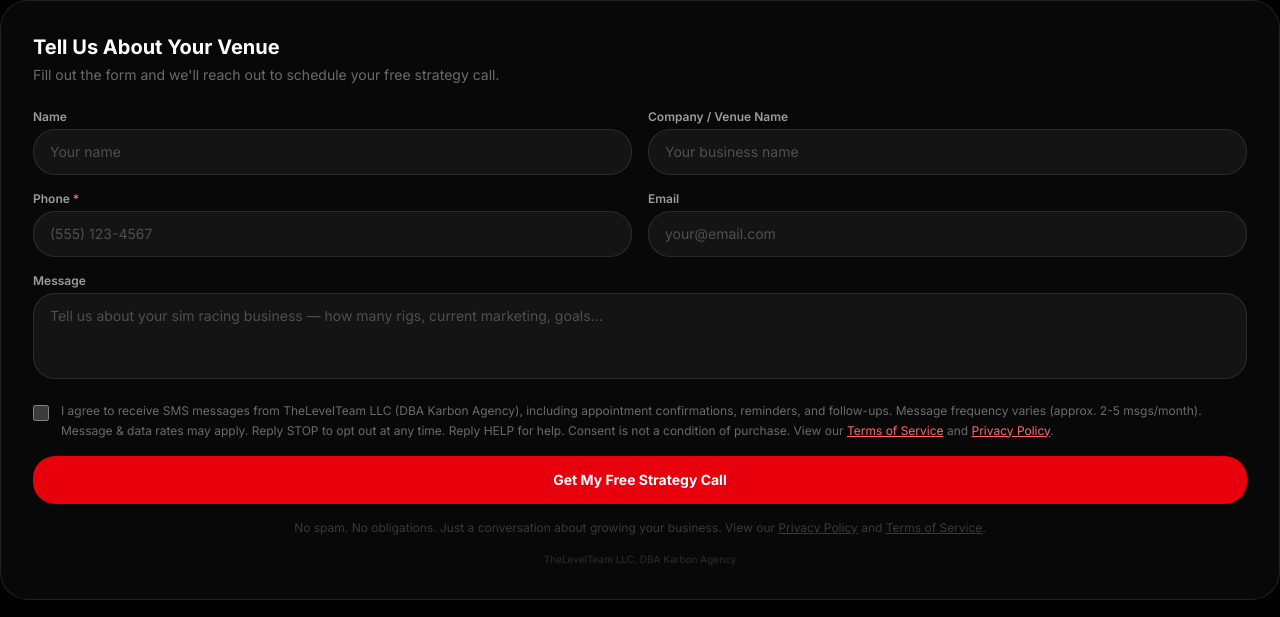
Test: ContactForm › loading state › shows Sending text and disables button while submitting
Type "John" into the field with id "name" at (332, 152), box [33,129,632,175]
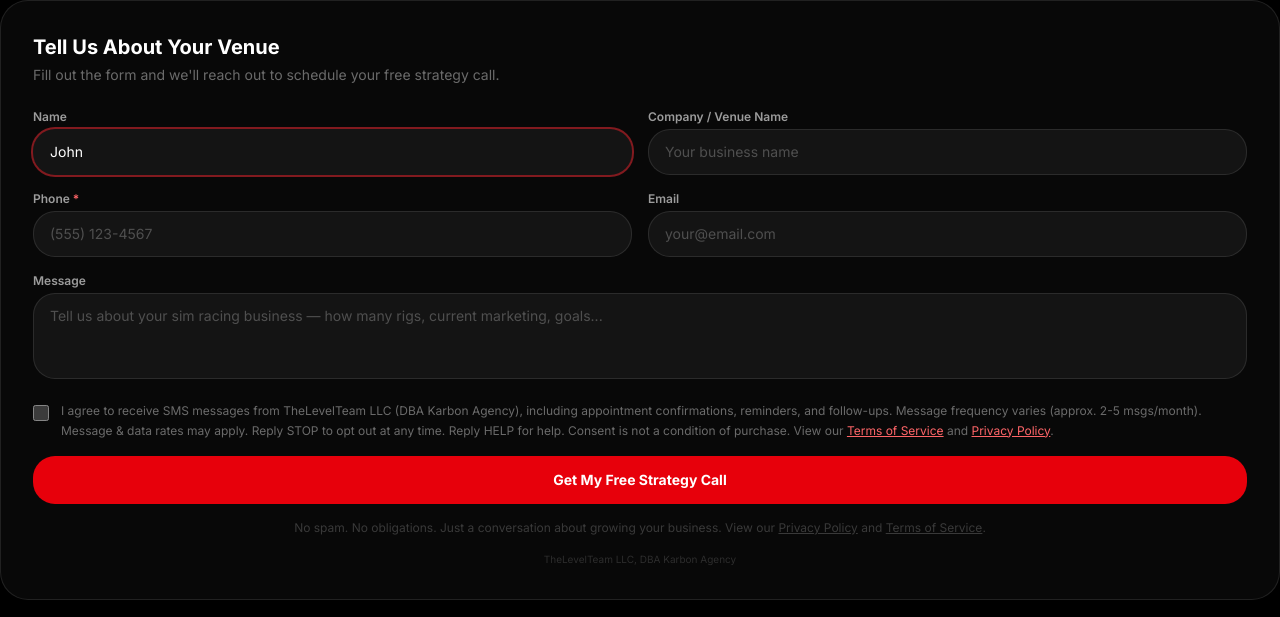
Type "123" into the field labelled "Phone *" at (332, 234), box [33,211,632,257]
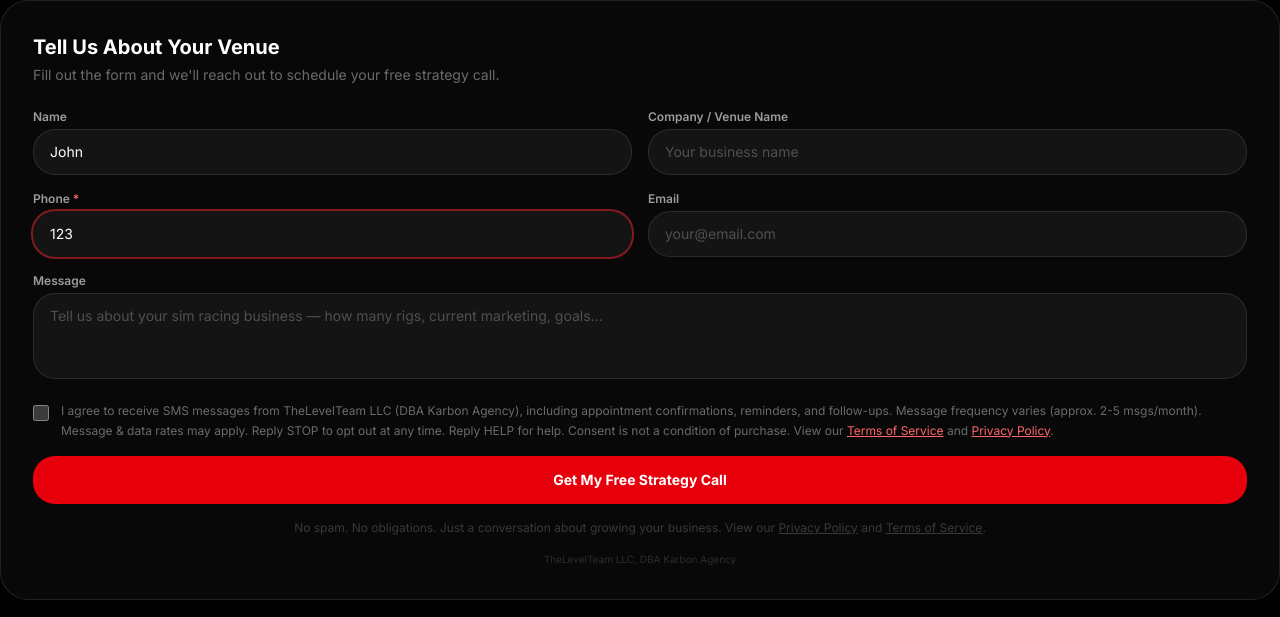
Type "j@t.com" into the field with id "email" at (948, 234), box [648,211,1247,257]
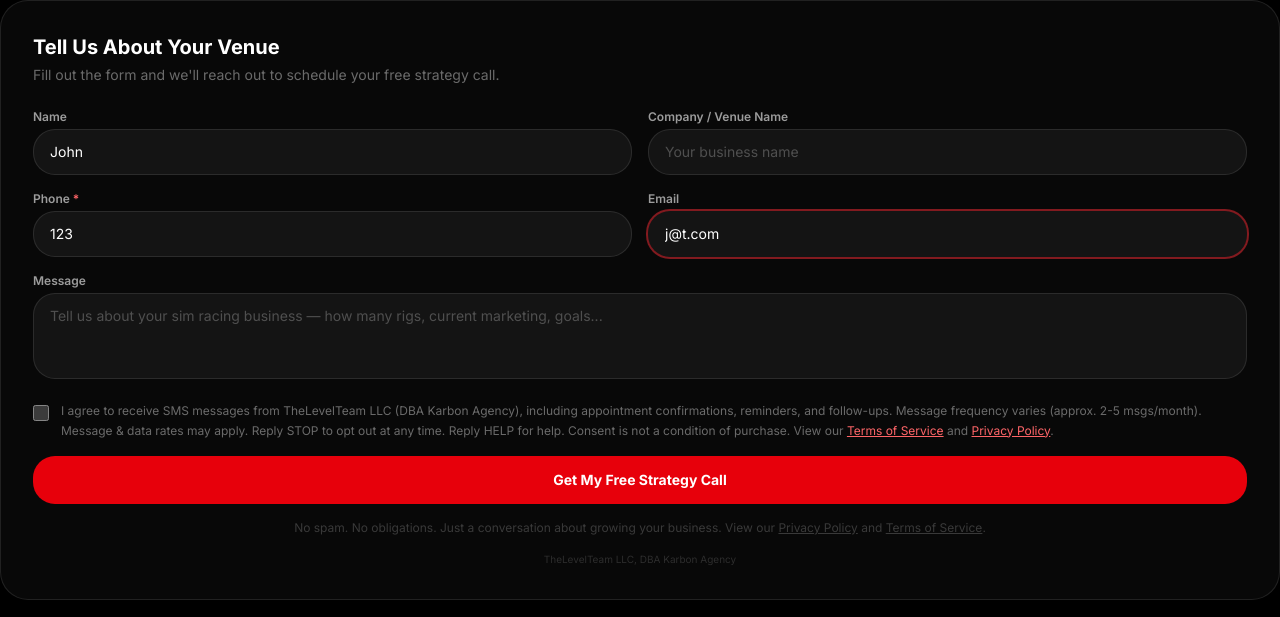
Type "Hi" into the text box with id "message" at (640, 336), box [33,293,1247,379]
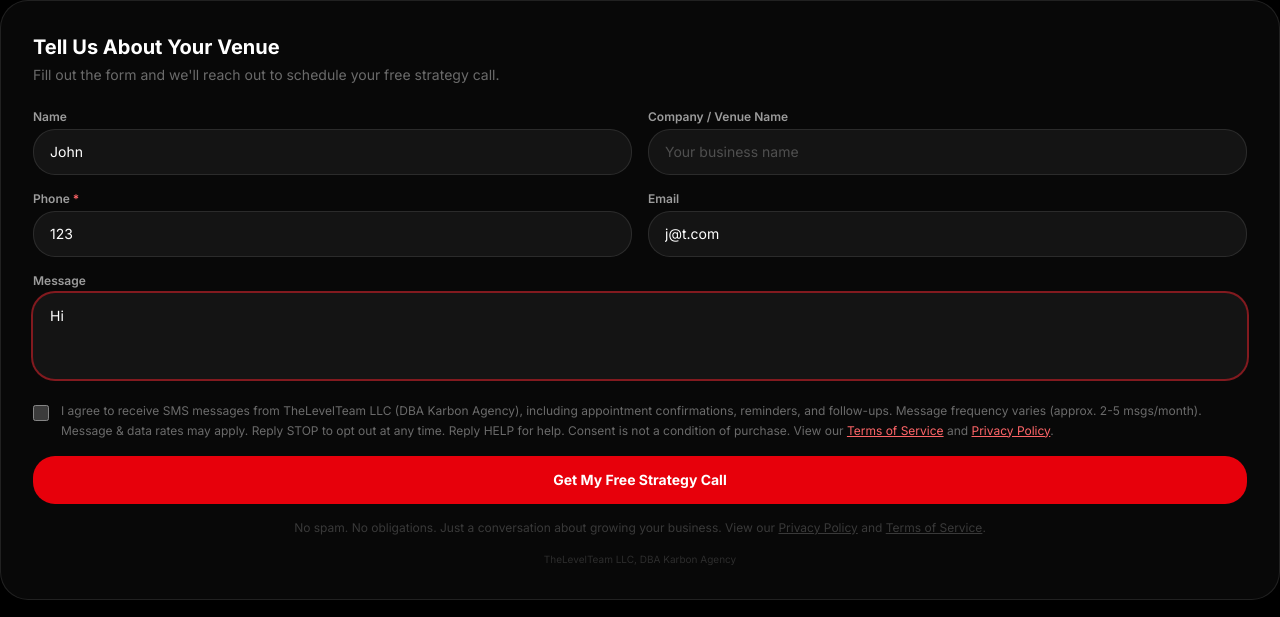
Click the button "Get My Free Strategy Call" at (640, 480), box [33,456,1247,504]
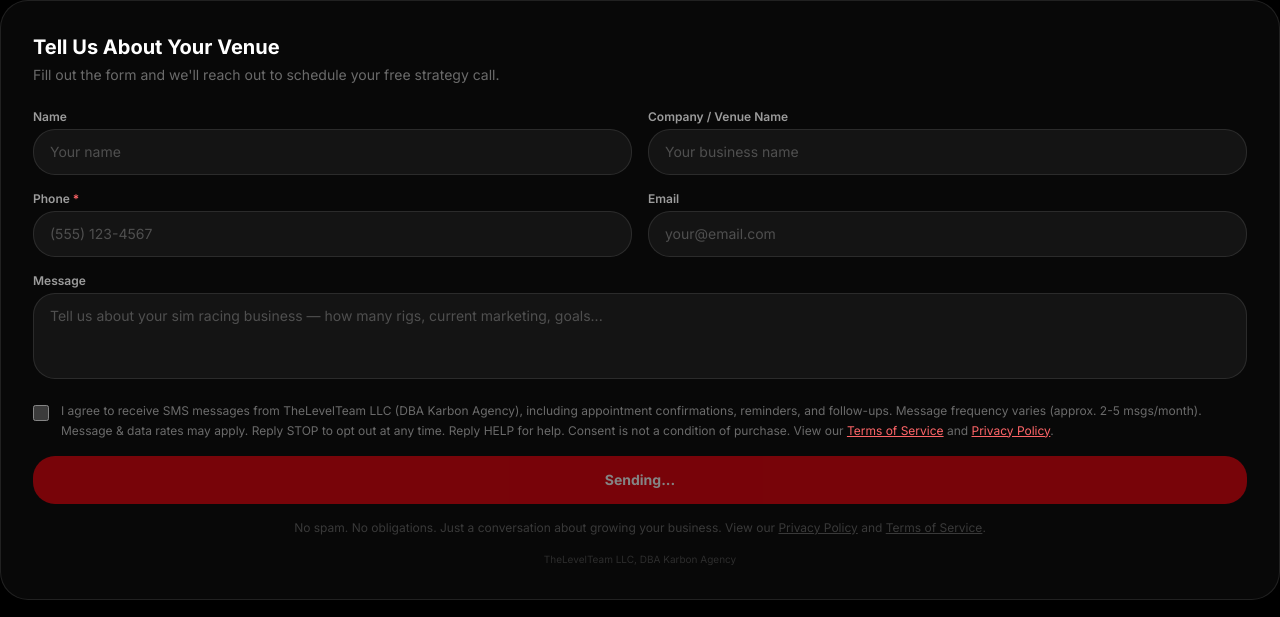
Result: the button "Sending..." is disabled at [33,456,1247,504]
